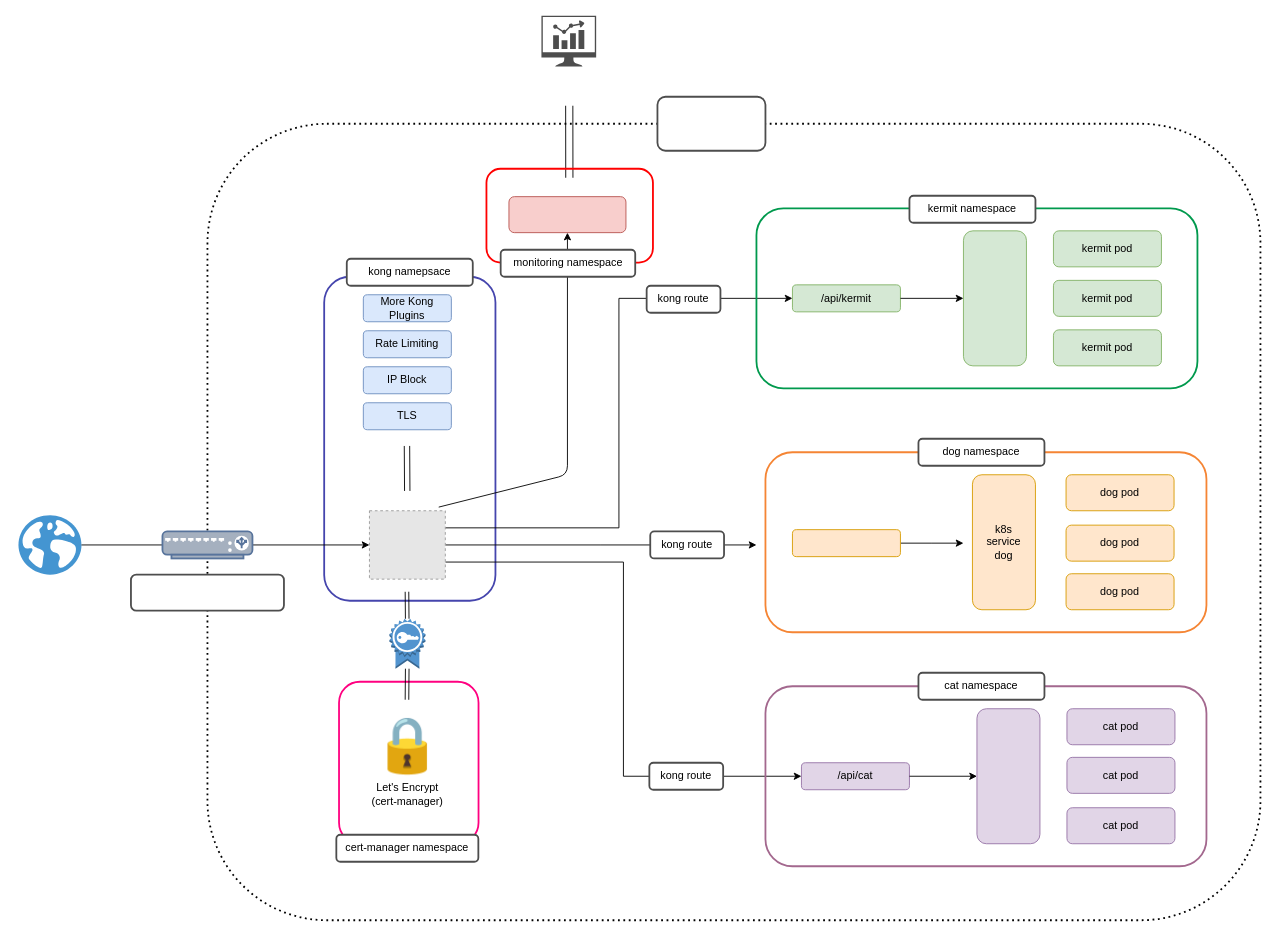
Some shapes in this 1277 by 936 pixel diagram are drawn without their labels. Grey dashed boxes stand in for pictures. The shapes that lost their labels are listed below. From the top down, each one's box as (x1, y1, x2, y2) in pixels, then its label:
(541, 15, 596, 66): Admin Grafana Dashboard
(656, 95, 766, 151): Kubernetes
(508, 196, 626, 233): Grafana/Prometheus Service
(963, 230, 1026, 366): k8s service kermit
(18, 515, 81, 574): Public Internet
(792, 529, 900, 557): /api/dog
(130, 573, 284, 611): External Load Balancer
(976, 708, 1040, 844): k8s service cat
